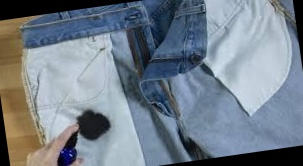ink: (78, 109, 113, 143)
